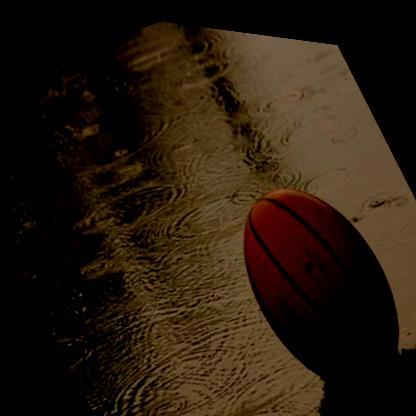basketball: (206, 148, 416, 399)
